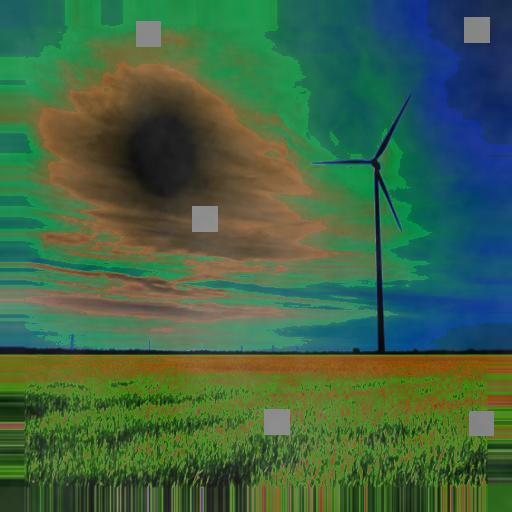wind turbine: (310, 93, 409, 354)
